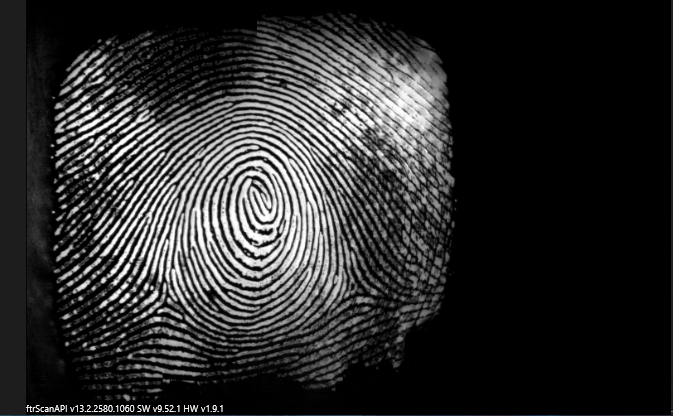deltas: (136, 269, 193, 328), (328, 263, 377, 312)
nucleo: (221, 163, 293, 242)
